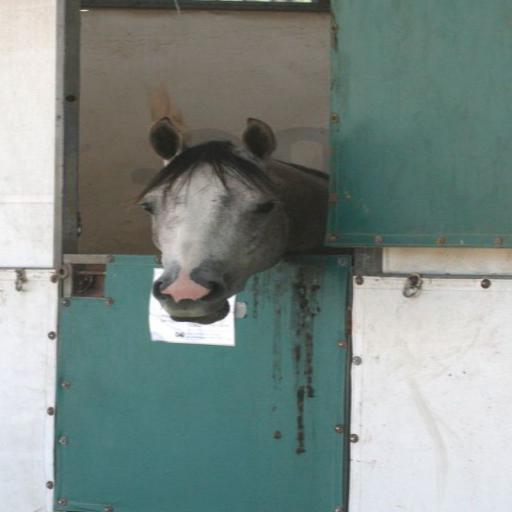horse: (124, 116, 328, 326)
